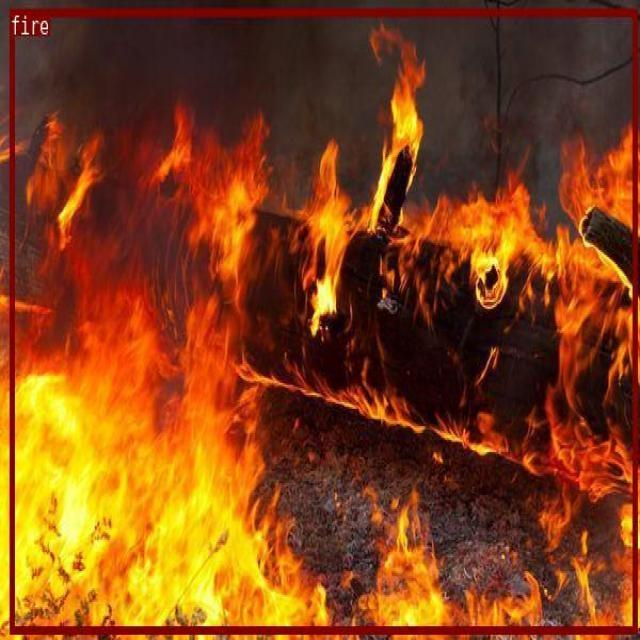fire: (9, 8, 637, 633)
